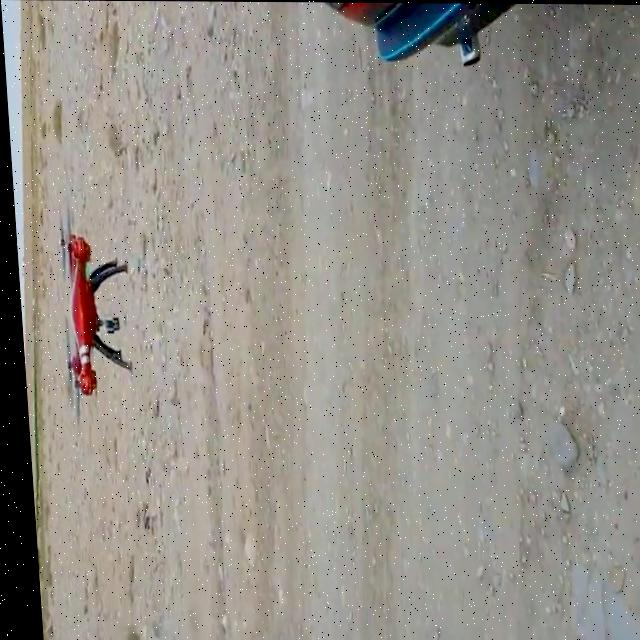drone: (46, 205, 135, 432)
